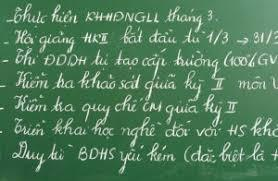text: (0, 138, 278, 175), (0, 67, 278, 102), (0, 114, 278, 149), (1, 45, 278, 79), (0, 91, 239, 127), (3, 26, 278, 54), (5, 1, 218, 33)
